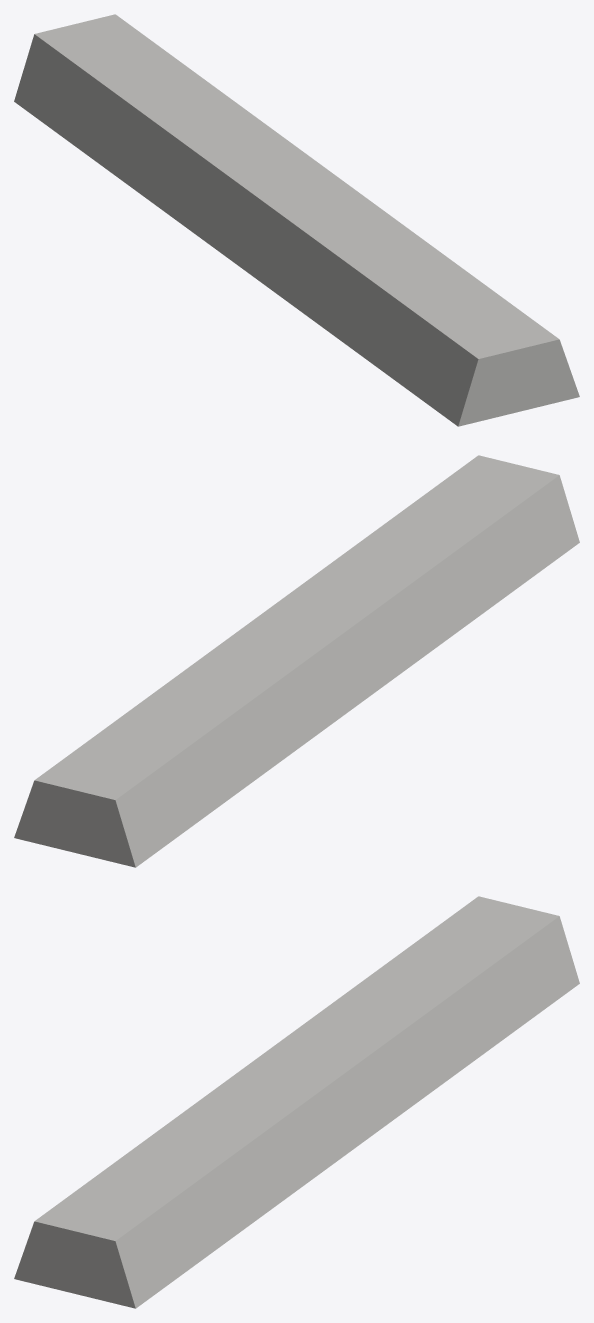
The picture shows the model from 3 angles, top to bottom: view 1: azimuth 30°, elevation 25°; view 2: azimuth 150°, elevation 25°; view 3: azimuth 330°, elevation 25°; orthographic projection.
Parts seen in each view (by area): view 1: TL; view 2: TL; view 3: TL.
Boxes of the visible parts, x1=… form: TL: x1=14, y1=14, x2=579, y2=426; TL: x1=14, y1=455, x2=579, y2=867; TL: x1=14, y1=896, x2=579, y2=1308.
Size of what is drawn, in the model's own units: 0.285 by 0.14 by 1.8.
2 materials, 1 textured.
